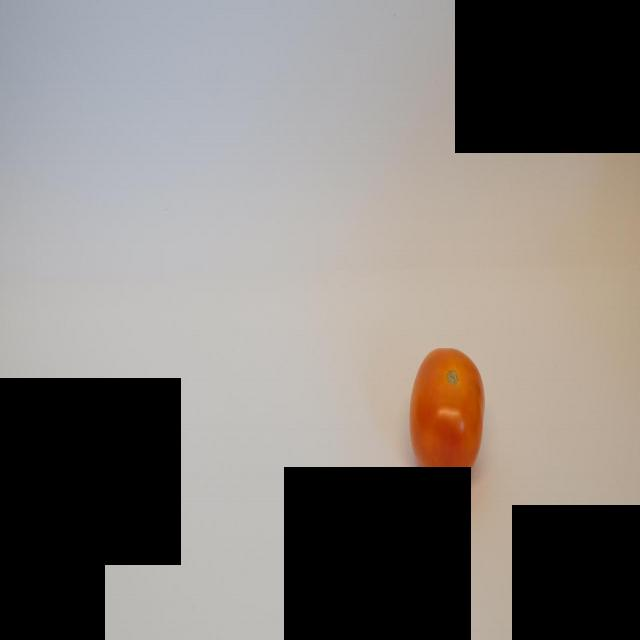tomato: (410, 345, 486, 485)
